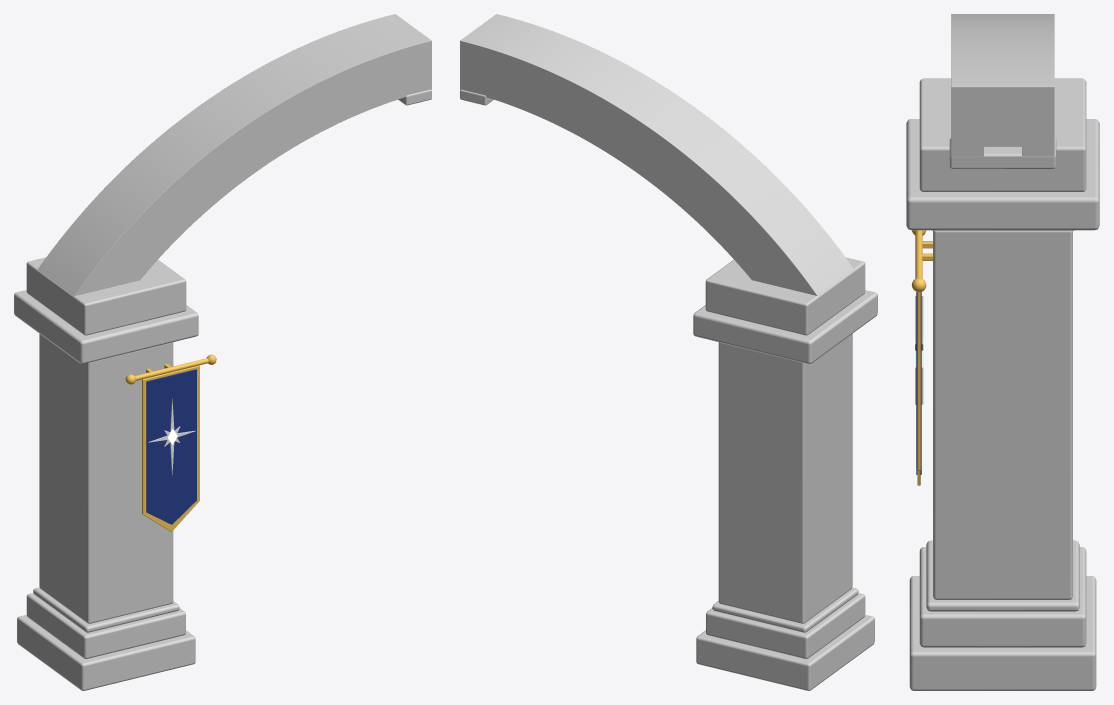
The model's file is Lobby_ArchSpan.fbx.
3 views of the same model, side by side, from view 1: azimuth 30°, elevation 25°; view 2: azimuth 150°, elevation 25°; view 3: azimuth 270°, elevation 25° (orthographic). The views are drawn at different scales.
Parts seen in each view (by area): view 1: Lobby_ArchSpan__Marble, Lobby_ArchSpan__NavyCloth, Lobby_ArchSpan__Gold; view 2: Lobby_ArchSpan__Marble; view 3: Lobby_ArchSpan__Marble, Lobby_ArchSpan__Gold, Lobby_ArchSpan__NavyCloth, Lobby_ArchSpan__WhiteEmblem.
Boxes of the visible parts, x1,y1,x2,y2 form: Lobby_ArchSpan__Marble: [14, 14, 431, 690]; Lobby_ArchSpan__NavyCloth: [146, 369, 196, 524]; Lobby_ArchSpan__Gold: [125, 354, 216, 531]; Lobby_ArchSpan__Marble: [460, 14, 877, 690]; Lobby_ArchSpan__Marble: [906, 14, 1099, 690]; Lobby_ArchSpan__Gold: [911, 230, 932, 485]; Lobby_ArchSpan__NavyCloth: [916, 292, 921, 474]; Lobby_ArchSpan__WhiteEmblem: [915, 296, 923, 404].
Size of the model in its own units: 17.9 by 25.75 by 5.8.
